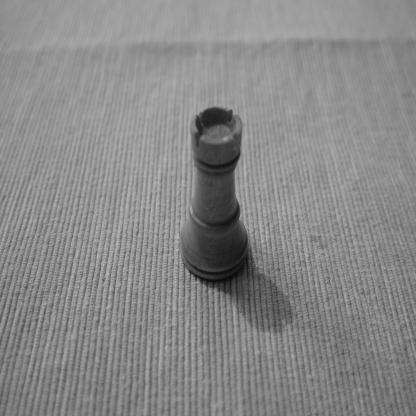white-rook: (178, 103, 249, 284)
